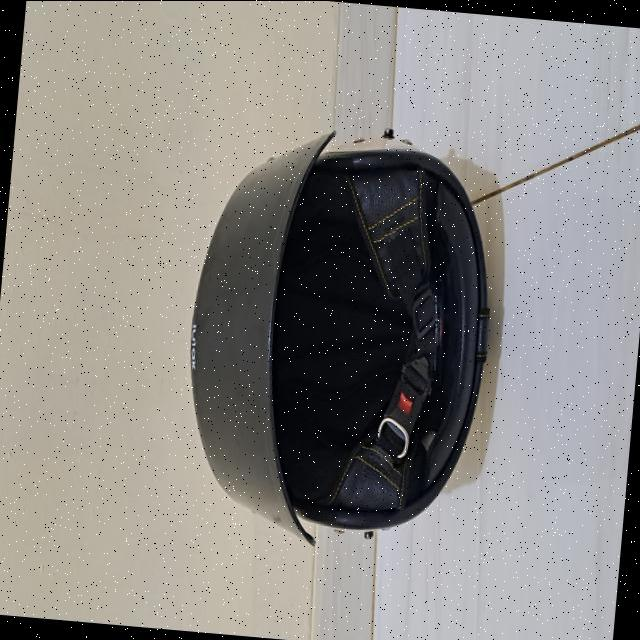Helm: (160, 112, 512, 564)
